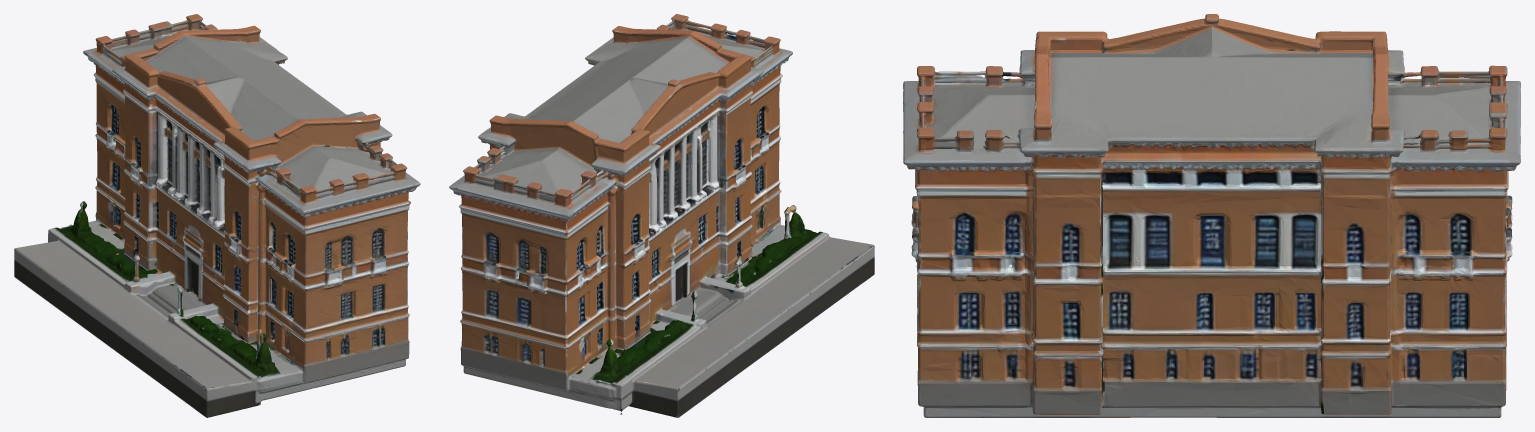
The model's file is comp_library.glb.
The picture shows the model from 3 angles, left to right: view 1: azimuth 30°, elevation 25°; view 2: azimuth 150°, elevation 25°; view 3: azimuth 270°, elevation 25°; orthographic projection. The views are drawn at different scales.
Visible parts, largest first — view 1: geometry_0; view 2: geometry_0; view 3: geometry_0.
Boxes of the visible parts, x1,y1,x2,y2 form: geometry_0: [14, 14, 420, 417]; geometry_0: [449, 14, 874, 417]; geometry_0: [903, 14, 1520, 417].
Bounding box in the file's own units: 1.15 × 1.21 × 1.99.
Materials: 1 (1 with a texture image).
